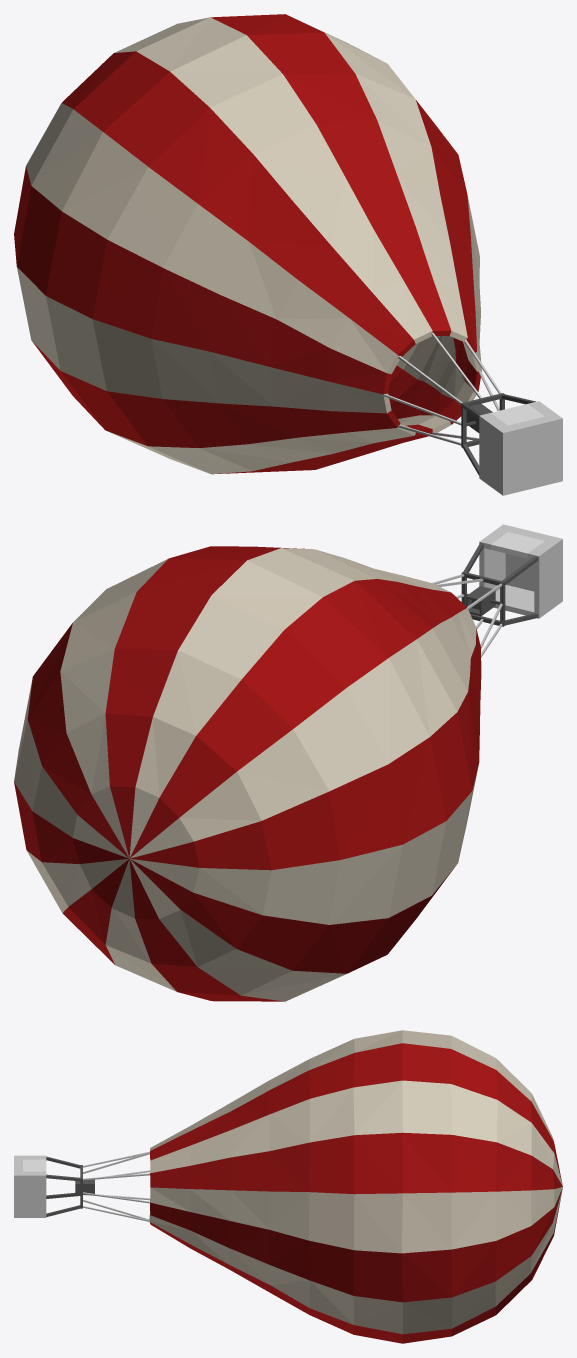
File: Balloon.fbx
3 renders of one model, top to bottom at view 1: azimuth 30°, elevation 25°; view 2: azimuth 150°, elevation 25°; view 3: azimuth 270°, elevation 25°, orthographic. The views are drawn at different scales.
Parts seen in each view (by area): view 1: Balloon, Basket, Door; view 2: Balloon, Basket, Door; view 3: Balloon, Basket.
Part boxes in pixels (x1,y1,x2,y2): Balloon: [14, 14, 481, 474]; Basket: [382, 333, 562, 495]; Door: [491, 404, 544, 425]; Balloon: [14, 546, 481, 1001]; Basket: [432, 524, 562, 657]; Door: [491, 532, 544, 558]; Balloon: [149, 1030, 562, 1343]; Basket: [14, 1151, 149, 1221].
Bounding box in the file's own units: 2177 × 2186 × 3797.
